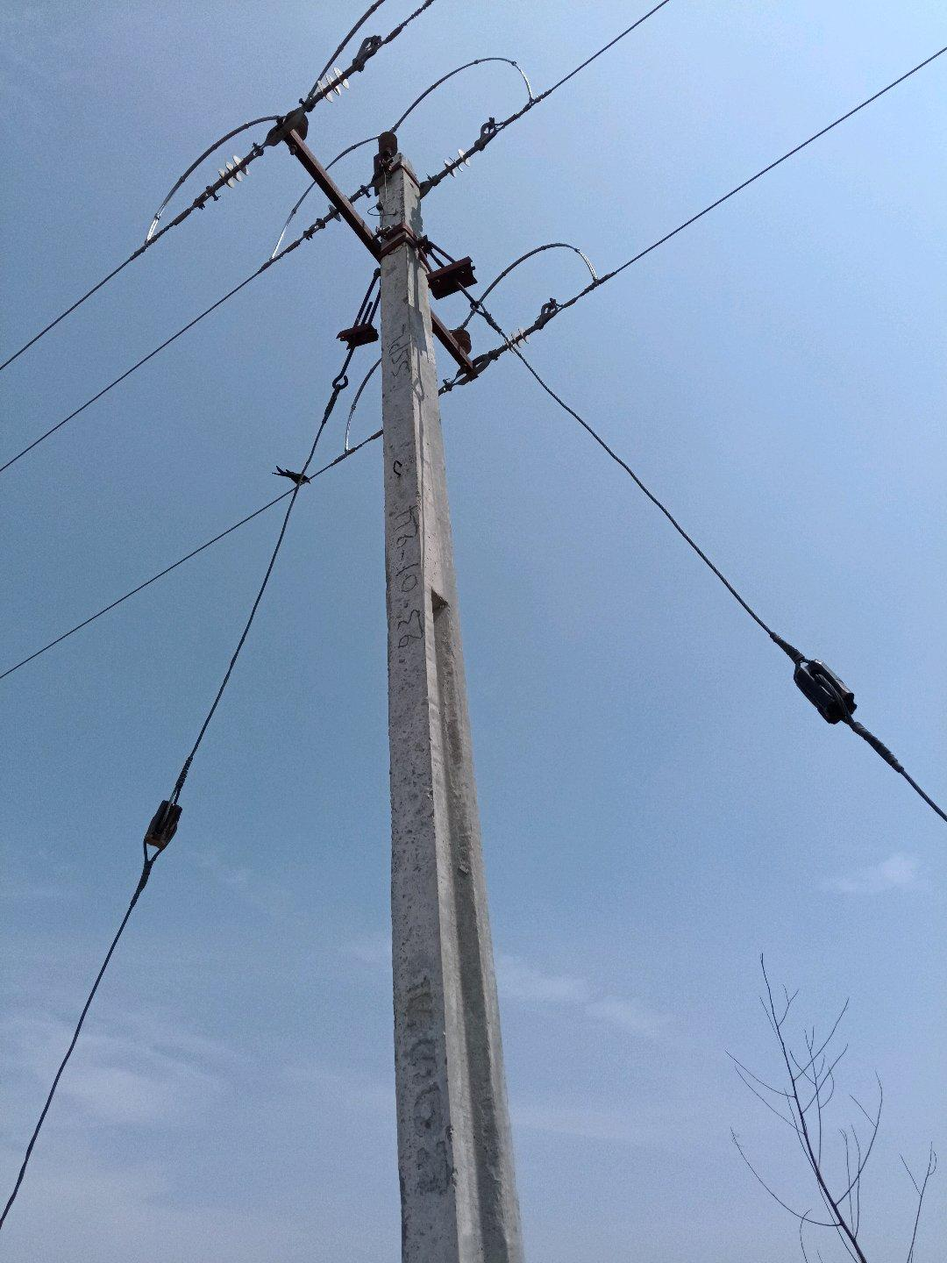{"0" "insulator", "1" "pole", "2" "crossarm", "3" "conductor", "4" "street_: (267, 111, 522, 1262), (137, 114, 278, 253), (299, 0, 434, 113), (472, 296, 577, 382), (422, 118, 500, 196), (212, 139, 265, 196), (270, 187, 312, 258), (329, 139, 369, 167), (441, 375, 466, 392), (549, 302, 552, 306)
